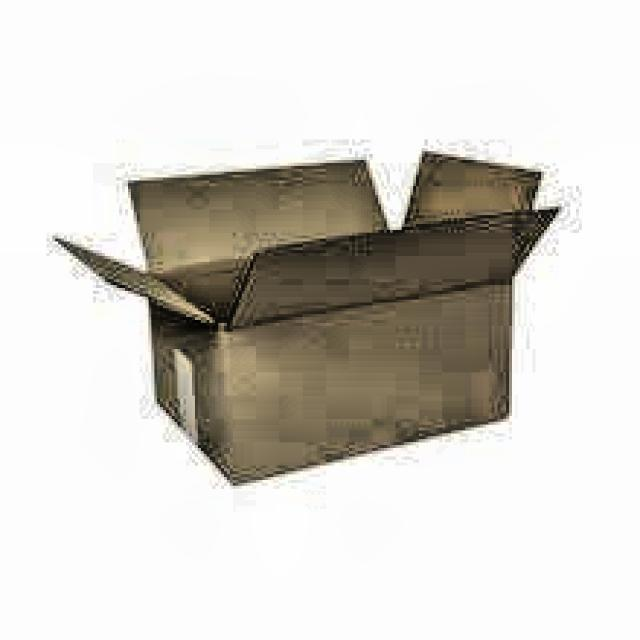cardboard: (52, 148, 562, 486)
